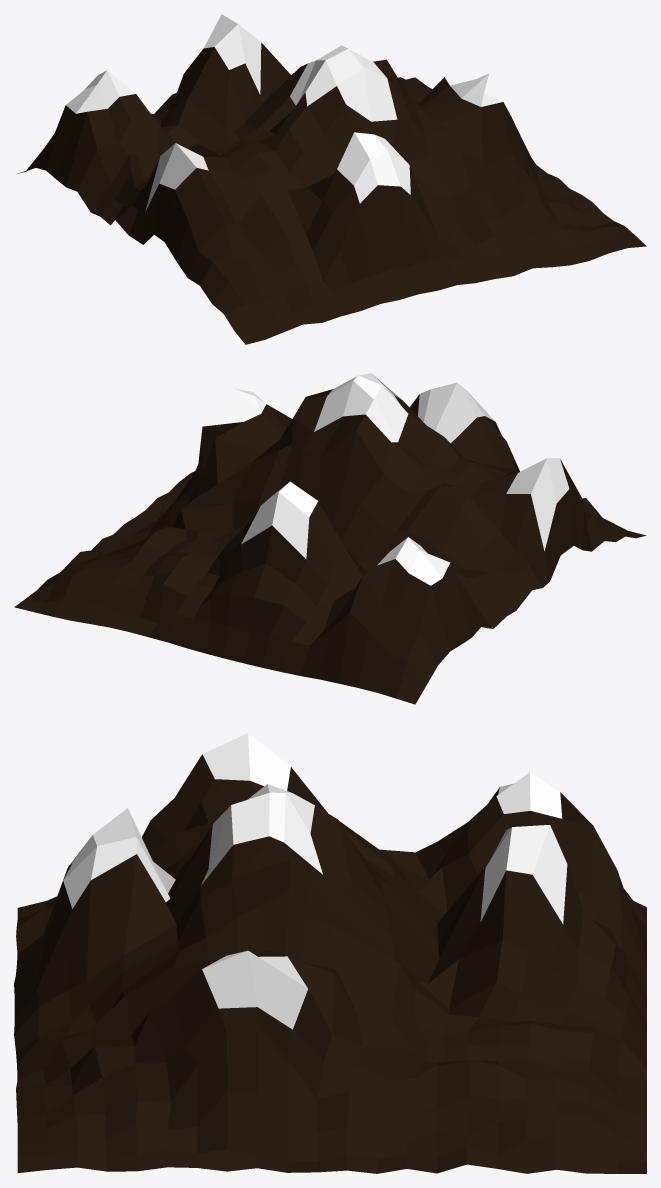
Rendered from Гора4.FBX.
3 renders of one model, top to bottom at view 1: azimuth 30°, elevation 25°; view 2: azimuth 150°, elevation 25°; view 3: azimuth 270°, elevation 25°, orthographic. The views are drawn at different scales.
Visible parts, largest first — view 1: Плоскость; view 2: Плоскость; view 3: Плоскость.
Part boxes in pixels (left/top/right/bottom): Плоскость: left=17, top=14, right=646, bottom=344; Плоскость: left=14, top=373, right=646, bottom=704; Плоскость: left=14, top=733, right=646, bottom=1173.
Bounding box in the file's own units: 803 × 338 × 792.
